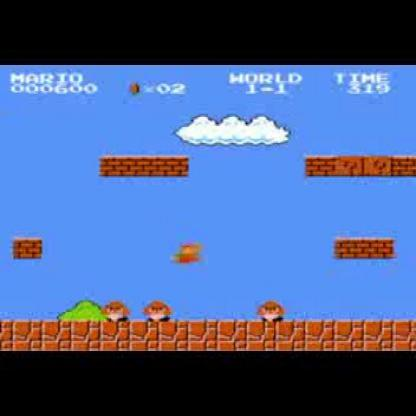Goomba: (101, 298, 128, 326), (256, 299, 284, 325), (146, 300, 176, 323)
